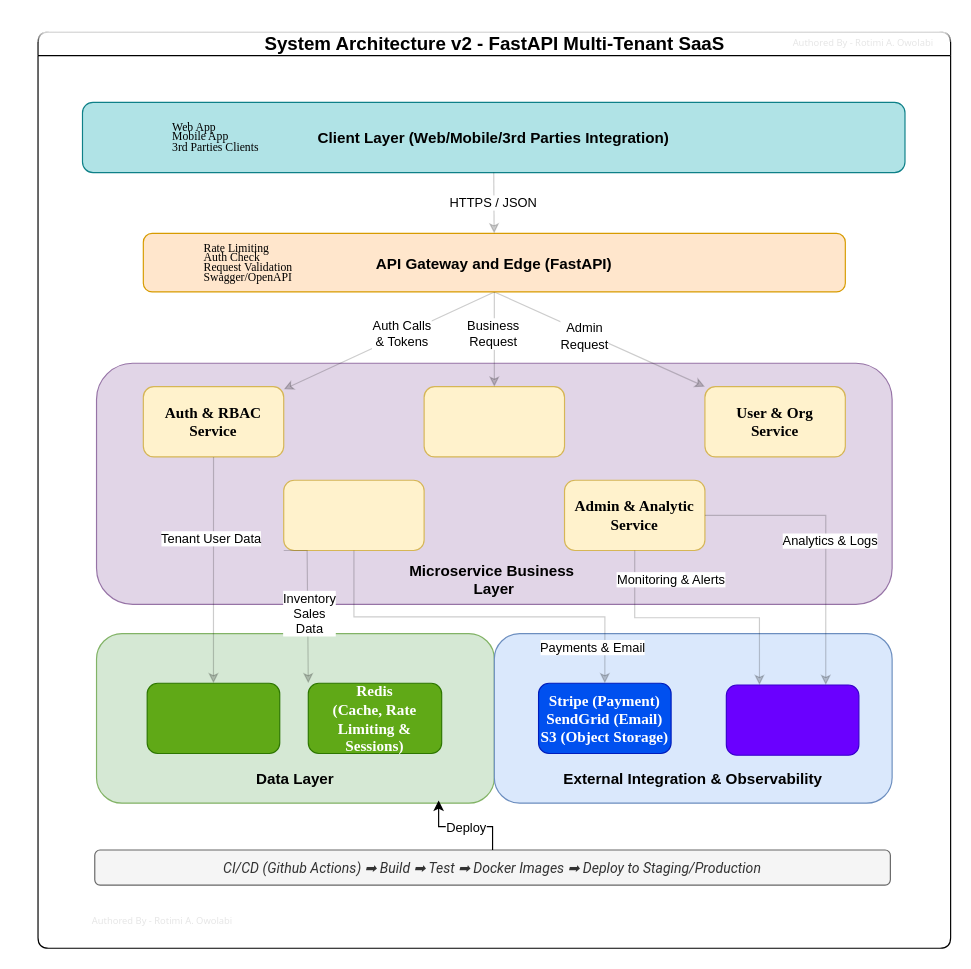
This 971x969 diagram has some shape labels left out. The shapes that lost their labels are listed below. From the top down, each one's centre as x and y in pixels, then its label:
the point at 494,421: Tenant Mgmt Service
the point at 353,514: Business Ops (Inventory, Sales) Service
the point at 213,717: PostgreSQL (Relational Data, Row-Level Security)
the point at 792,719: Prometheus Grafana Sentry
